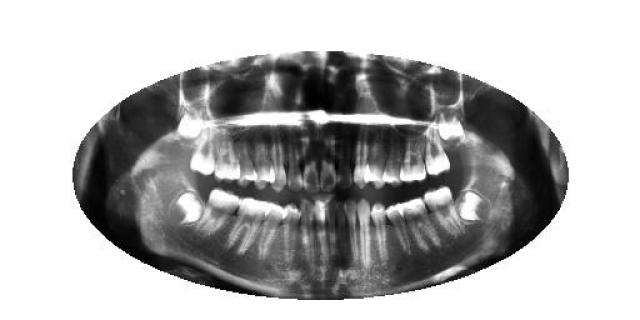Restorations: (455, 188, 493, 224), (170, 189, 205, 226)
